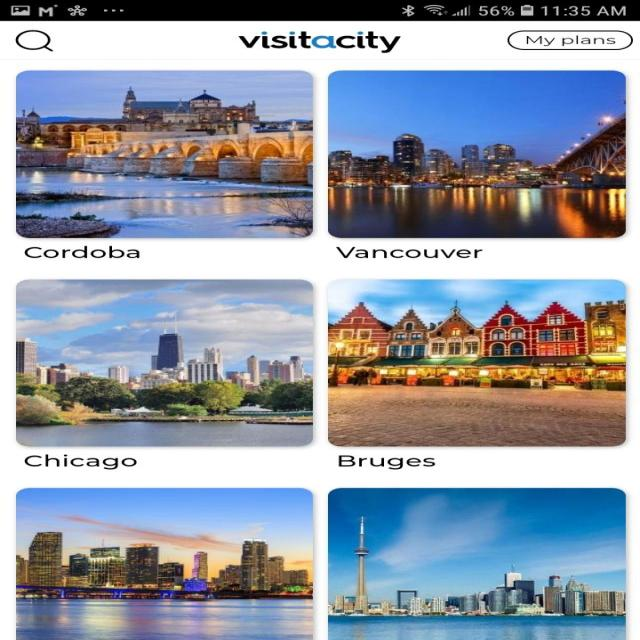Icon: (15, 30, 54, 52)
Image: (327, 70, 625, 238), (16, 278, 313, 446), (327, 279, 625, 446), (15, 71, 312, 238), (15, 487, 313, 640), (327, 487, 625, 640), (237, 31, 401, 53)
Text: (335, 246, 483, 258), (24, 454, 137, 469), (24, 245, 140, 258), (338, 455, 434, 470)
TextButton: (507, 30, 633, 50)
